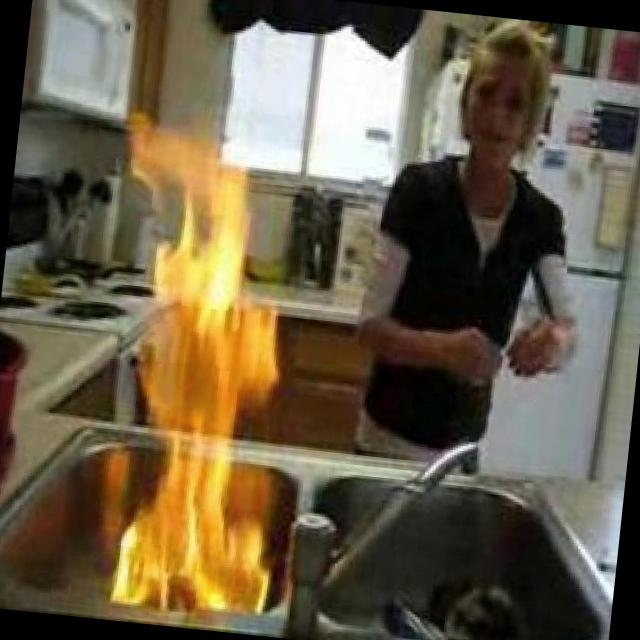fire: (106, 238, 300, 624), (114, 112, 267, 246)
